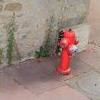a fire hydrant: (57, 26, 76, 76)
